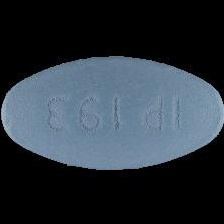33261-084: (0, 0, 224, 224)
